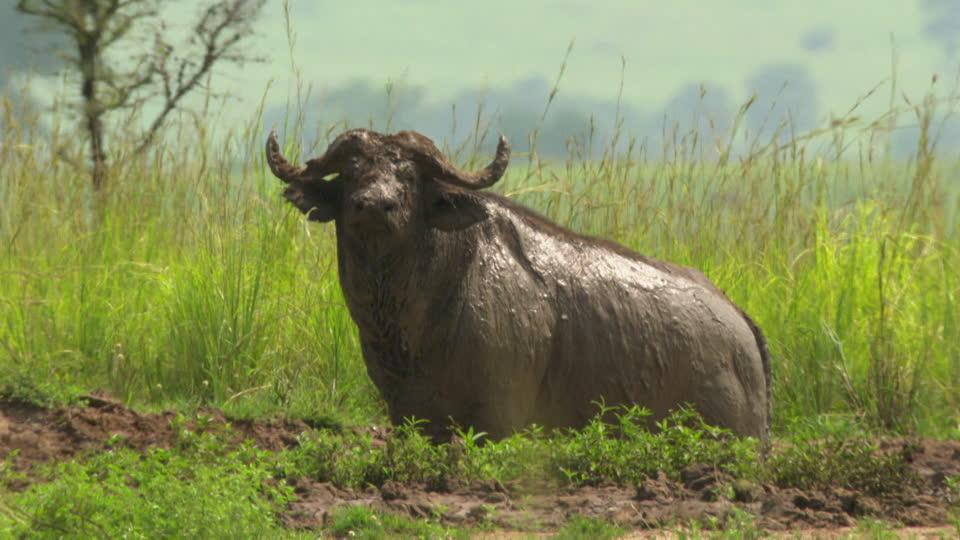Buffalo: (187, 48, 835, 424)
